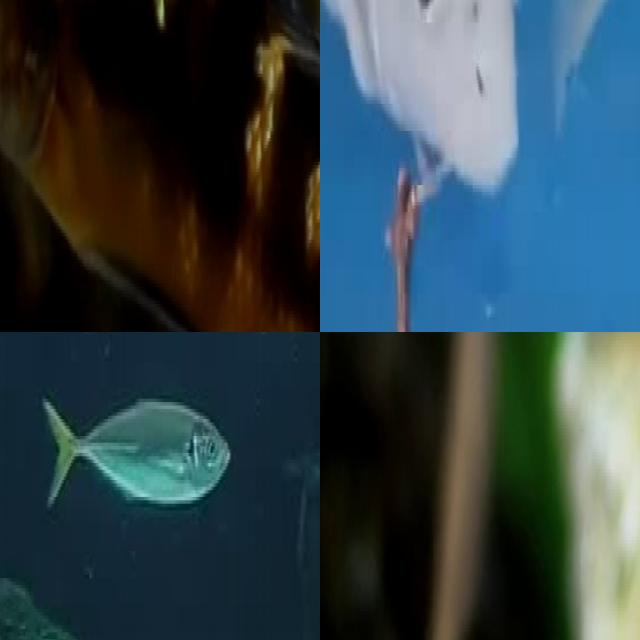fish: (0, 0, 320, 332), (39, 368, 242, 517)
